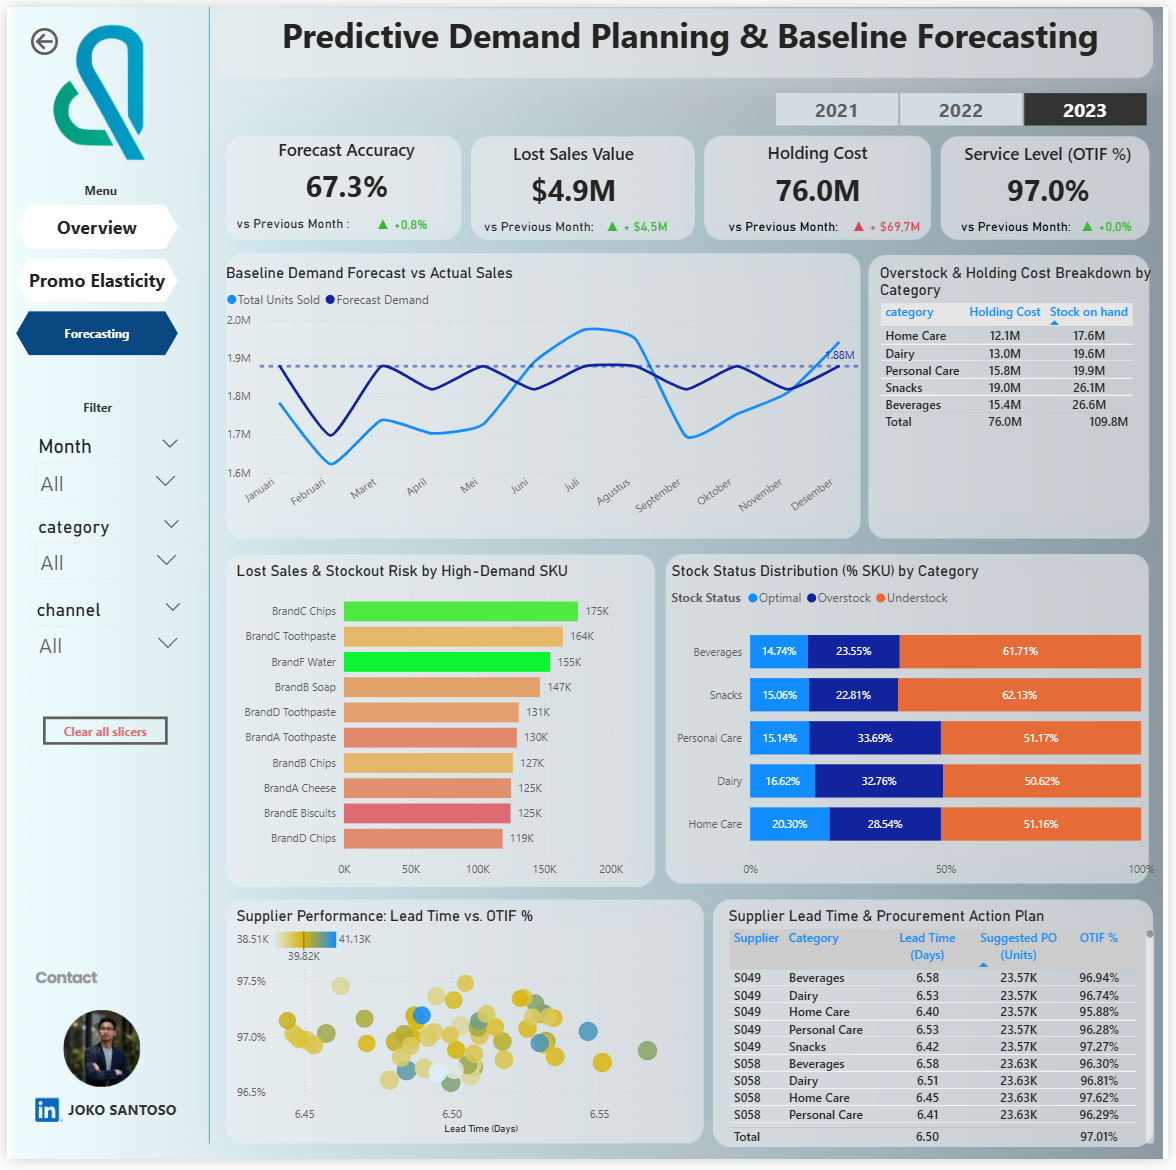

The page's visual inventory and layout, read from the dashboard file:
{"tool":"powerbi","page":{"name":"Forecasting","canvas":[1290,1280],"ordinal":2},"visuals":[{"type":"textbox","box":[238.6,0,1041.4,78.6],"z":1000},{"type":"card","title":"Forecast Accuracy","fields":{"Values":["Measure Dash 3.Forecast Accuracy %"]},"box":[290,145.7,174.3,82.9],"z":2000},{"type":"card","title":"Service Level (OTIF %)","fields":{"Values":["Measure Dash 3.Service Level OTIF %"]},"box":[1051.4,150,210,82.9],"z":3000},{"type":"card","title":"Holding Cost","fields":{"Values":["Measure Dash 3.Holding Cost"]},"box":[812.9,148.6,174.3,84.3],"z":4000},{"type":"card","title":"Lost Sales Value","fields":{"Values":["Measure Dash 3.Lost Sales Value"]},"box":[525.2,150.5,208.6,82.9],"z":5000},{"type":"clusteredBarChart","title":"Lost Sales & Stockout Risk by High-Demand SKU","fields":{"Category":["fmcg_master_clean.sku_name"],"Y":["Measure Dash 3.Lost Sales Value"]},"box":[250,616.2,522.5,358.8],"z":6000},{"type":"card","fields":{"Values":["Measure Dash 3.Lost Sales Indicator"]},"box":[644.3,230,108.6,24.3],"z":9000},{"type":"textbox","box":[250,225.7,147.1,32.9],"z":11000},{"type":"textbox","box":[525.6,227.8,148.9,33.3],"z":12000},{"type":"card","fields":{"Values":["Measure Dash 3.Holding Cost Indicator"]},"box":[923.8,230,106.2,25],"z":13000},{"type":"textbox","box":[796.7,228.9,138.9,27.8],"z":14000},{"type":"card","fields":{"Values":["Measure Dash 3.Forecast Accuracy Indicator"]},"box":[388.8,228.8,100,25],"z":15000},{"type":"tableEx","title":"Overstock & Holding Cost Breakdown by Category","fields":{"Values":["fmcg_master_clean.category","Measure Dash 3.Holding Cost","Sum(fmcg_master_clean.stock_on_hand)"]},"box":[965.7,284.3,314.3,241.4],"z":16000},{"type":"lineChart","title":"Baseline Demand Forecast vs Actual Sales","fields":{"Y":["_Measures.Total Units Sold","Sum(fmcg_master_clean.avg_daily_units_sold)"],"Category":["Dim_Date.Date.Variation.Hierarki Tanggal.Bulan"]},"box":[238.6,284.3,712.9,300],"z":17000},{"type":"tableEx","title":"Supplier Lead Time & Procurement Action Plan","fields":{"Values":["fmcg_master_clean.supplier_id","fmcg_master_clean.category","Avg(fmcg_master_clean.lead_time_days)","fmcg_procurement_safetystock.Recommended_PO_15D (Unit)","Measure Dash 3.Service Level OTIF %"]},"box":[797.1,1000,482.9,268.6],"z":22000},{"type":"card","fields":{"Values":["Measure Dash 3.Service Level OTIF Indicator"]},"box":[1182.2,230,78.9,24.4],"z":25000},{"type":"textbox","box":[1055.2,228.6,138.6,28.6],"z":26000},{"type":"hundredPercentStackedBarChart","title":"Stock Status Distribution (% SKU) by Category","fields":{"Category":["fmcg_master_clean.category"],"Y":["CountNonNull(fmcg_master_clean.sku_id)"],"Series":["fmcg_master_clean.Stock Status"]},"box":[733.8,616.2,546.2,358.8],"z":29000},{"type":"scatterChart","title":"Supplier Performance: Lead Time vs. OTIF %","fields":{"X":["Avg(fmcg_master_clean.lead_time_days)"],"Category":["fmcg_master_clean.supplier_id"],"Y":["Measure Dash 3.Service Level OTIF %"],"Size":["Measure Dash 3.Lost Sales Value"]},"box":[250,1000,522.9,257.1],"z":30000},{"type":"actionButton","box":[21.2,18.8,100,40],"z":30004},{"type":"slicer","fields":{"Values":["Dim_Date.MonthName"]},"box":[21.1,469.9,181.7,90],"z":30005},{"type":"slicer","fields":{"Values":["fmcg_master_clean.channel"]},"box":[20,651.4,185.7,70],"z":30006},{"type":"pageNavigator","box":[10.5,219.5,180,167.1],"z":30007},{"type":"textbox","box":[58.3,188.8,91.7,31.7],"z":30008},{"type":"actionButton","box":[40,788.6,138.6,31.4],"z":30009},{"type":"textbox","box":[54.3,430,91.4,31.4],"z":30010},{"type":"slicer","fields":{"Values":["fmcg_master_clean.category"]},"box":[21.4,560,182.9,78.6],"z":30011},{"type":"slicer","fields":{"Values":["Dim_Date.Year"]},"box":[828.3,88.3,461.7,46.7],"z":30012},{"type":"textbox","box":[53.8,1208.8,150,36.2],"z":30013}]}

Visuals, with their boxes on the page's 1290x1280 design canvas (x1, y1, x2, y2). These are canvas units, not pixel positions in the 1176x1170 screenshot, which may show the page scaled, cropped or inside an application window:
textbox: box(239, 0, 1280, 79)
"Forecast Accuracy" card: box(290, 146, 464, 229)
"Service Level (OTIF %)" card: box(1051, 150, 1261, 233)
"Holding Cost" card: box(813, 149, 987, 233)
"Lost Sales Value" card: box(525, 150, 734, 233)
"Lost Sales & Stockout Risk by High-Demand SKU" clusteredBarChart: box(250, 616, 772, 975)
card - Measure Dash 3.Lost Sales Indicator: box(644, 230, 753, 254)
textbox: box(250, 226, 397, 259)
textbox: box(526, 228, 674, 261)
card - Measure Dash 3.Holding Cost Indicator: box(924, 230, 1030, 255)
textbox: box(797, 229, 936, 257)
card - Measure Dash 3.Forecast Accuracy Indicator: box(389, 229, 489, 254)
"Overstock & Holding Cost Breakdown by Category" tableEx: box(966, 284, 1280, 526)
"Baseline Demand Forecast vs Actual Sales" lineChart: box(239, 284, 952, 584)
"Supplier Lead Time & Procurement Action Plan" tableEx: box(797, 1000, 1280, 1269)
card - Measure Dash 3.Service Level OTIF Indicator: box(1182, 230, 1261, 254)
textbox: box(1055, 229, 1194, 257)
"Stock Status Distribution (% SKU) by Category" hundredPercentStackedBarChart: box(734, 616, 1280, 975)
"Supplier Performance: Lead Time vs. OTIF %" scatterChart: box(250, 1000, 773, 1257)
actionButton: box(21, 19, 121, 59)
slicer - Dim_Date.MonthName: box(21, 470, 203, 560)
slicer - fmcg_master_clean.channel: box(20, 651, 206, 721)
pageNavigator: box(10, 220, 190, 387)
textbox: box(58, 189, 150, 220)
actionButton: box(40, 789, 179, 820)
textbox: box(54, 430, 146, 461)
slicer - fmcg_master_clean.category: box(21, 560, 204, 639)
slicer - Dim_Date.Year: box(828, 88, 1290, 135)
textbox: box(54, 1209, 204, 1245)
